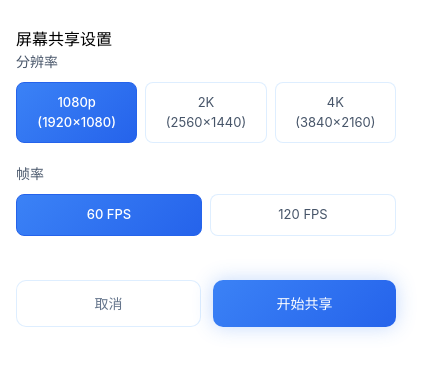
Scenario: ScreenShareWindowPage 事件契约 › RESULT failed → 留窗显示原因并恢复可重试
Click the button "开始共享".
click(304, 303)  # box [213,280,396,327]
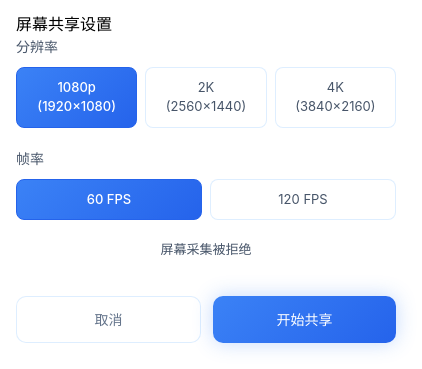
Expected: the button "开始共享" is enabled, [213,296,396,342]
Now the text "屏幕采集被拒绝" is shown, box [160,241,252,257]
